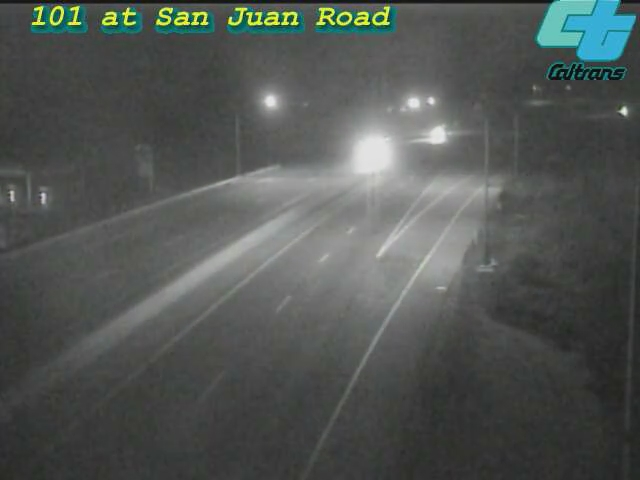vehicle: (348, 127, 398, 177), (416, 110, 466, 160), (600, 87, 640, 137)
